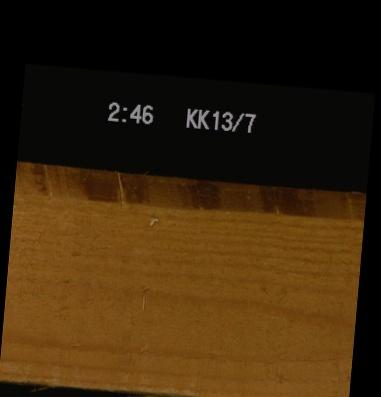wave: (14, 177, 363, 207)
